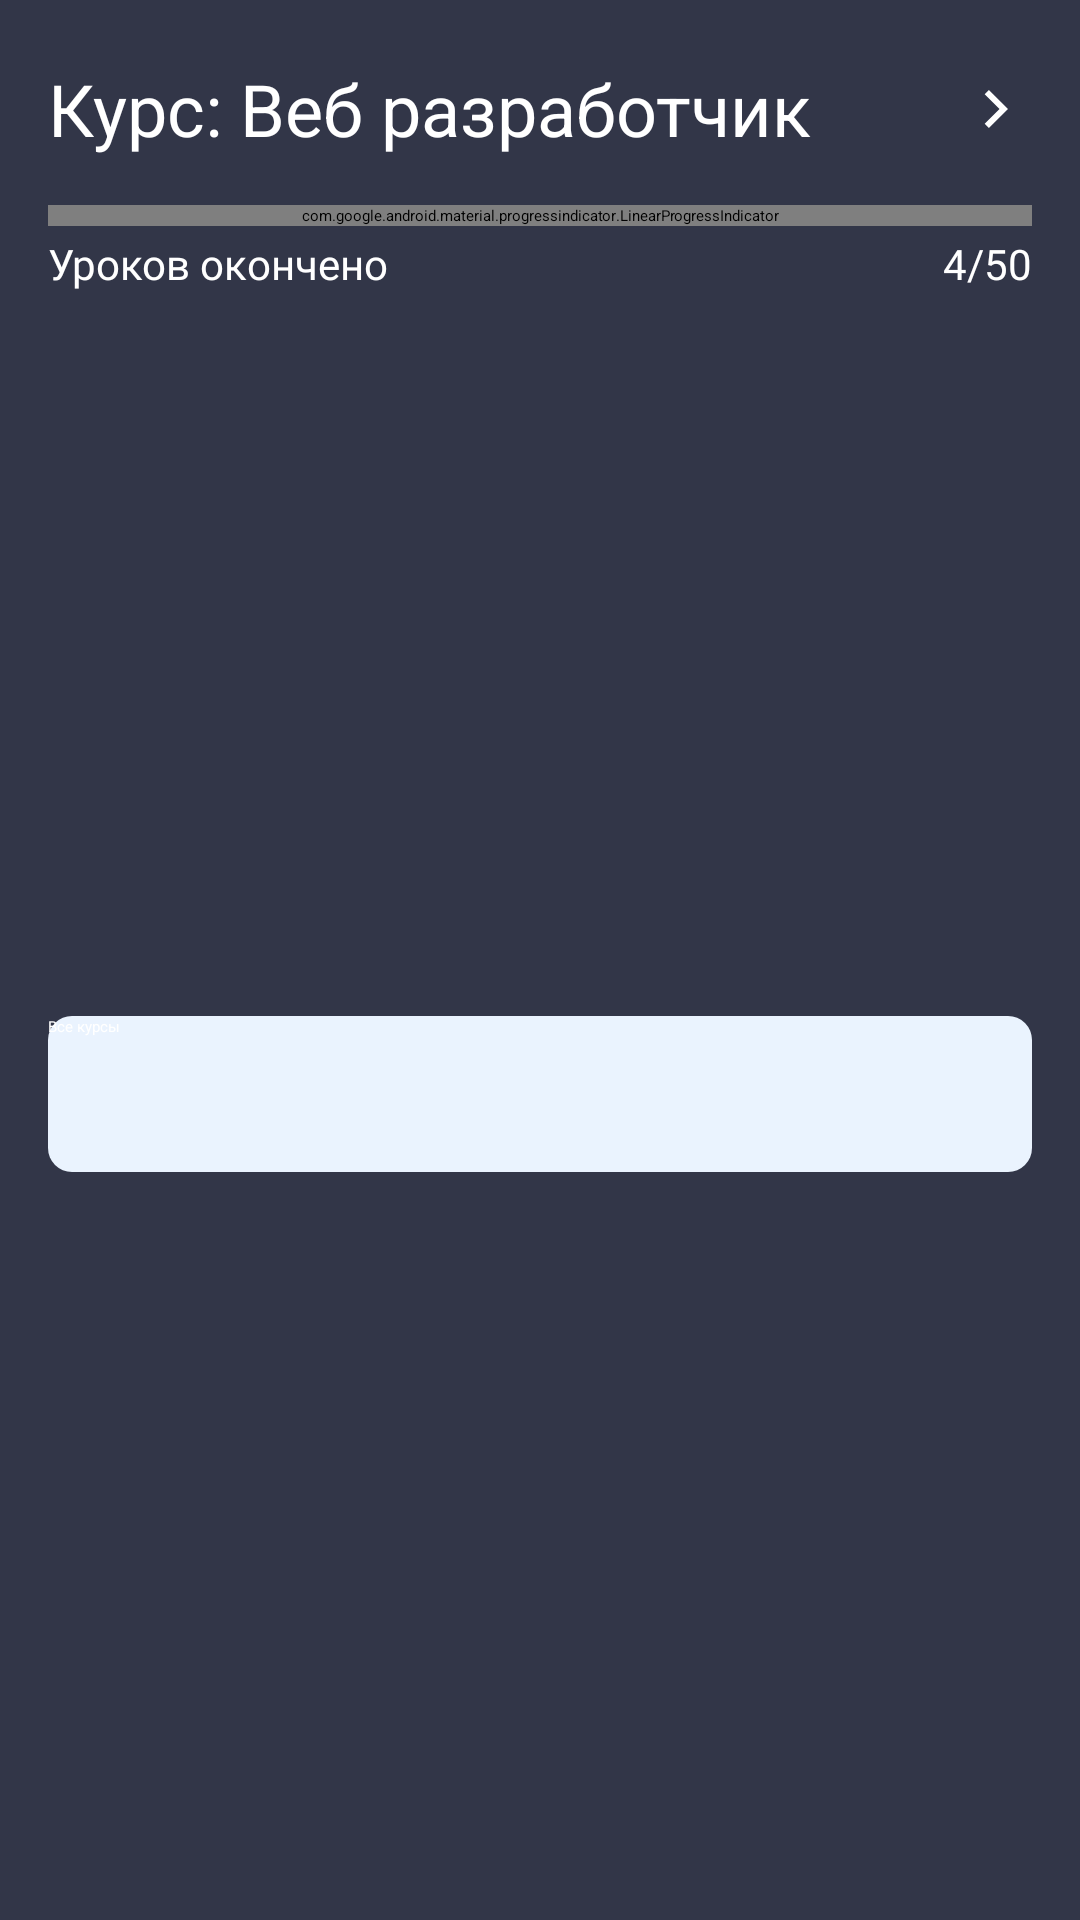

Locate icon controls on the screen. Image size 1080 x 1920, boxes as bbox(x1, y1, x2, y2).
arrow right: bbox(985, 90, 1008, 128)
